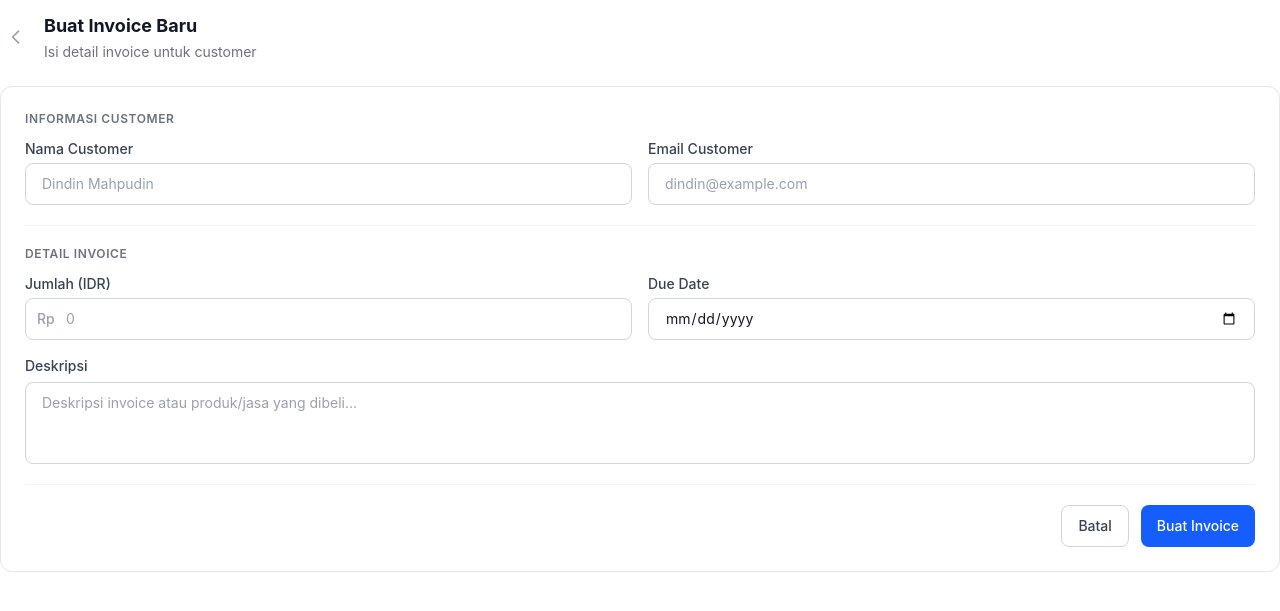
Scenario: CreateInvoicePage › shows error when amount is 0
Type "Andi Santoso" into the field labelled "Nama Customer". click: [328, 184]
box: x1=25 y1=163 x2=632 y2=205
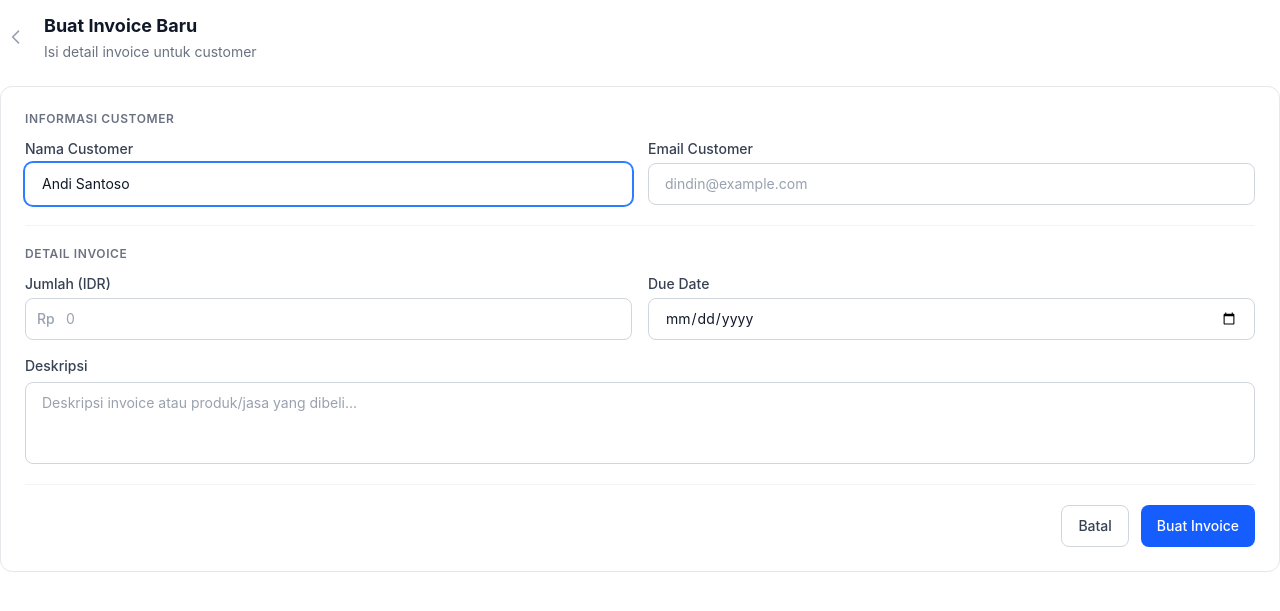
Type "andi@test.com" into the field labelled "Email Customer". click: [952, 184]
box: x1=648 y1=163 x2=1255 y2=205
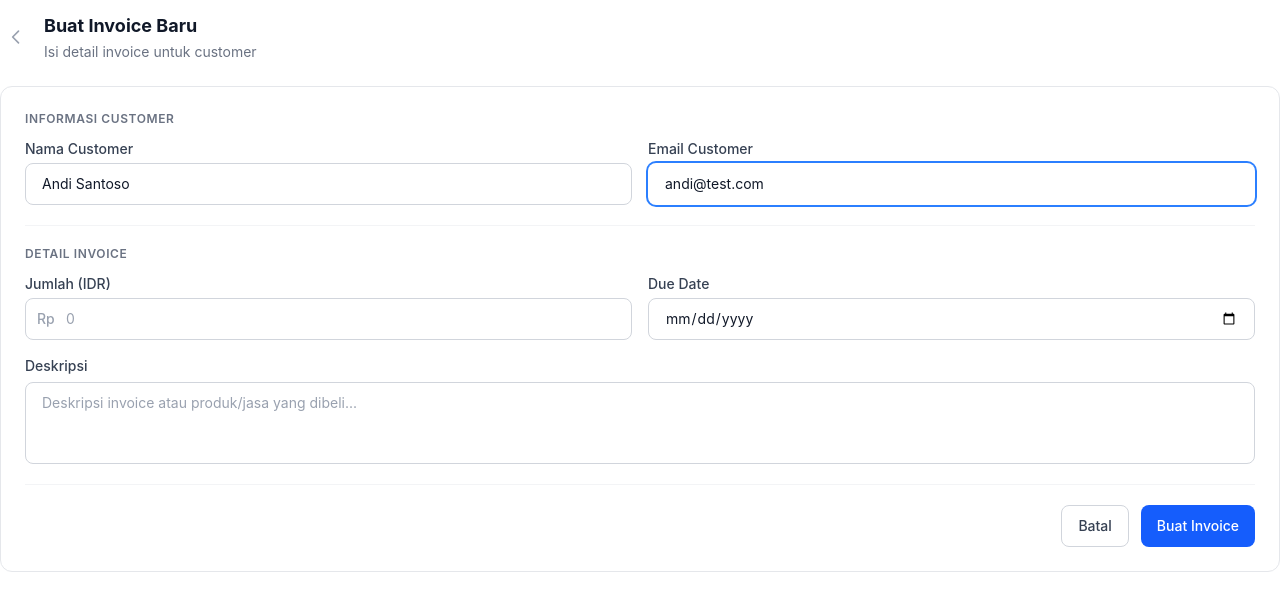
Type "Test" into the text box labelled "Deskripsi". click: [640, 423]
box: x1=25 y1=382 x2=1255 y2=464
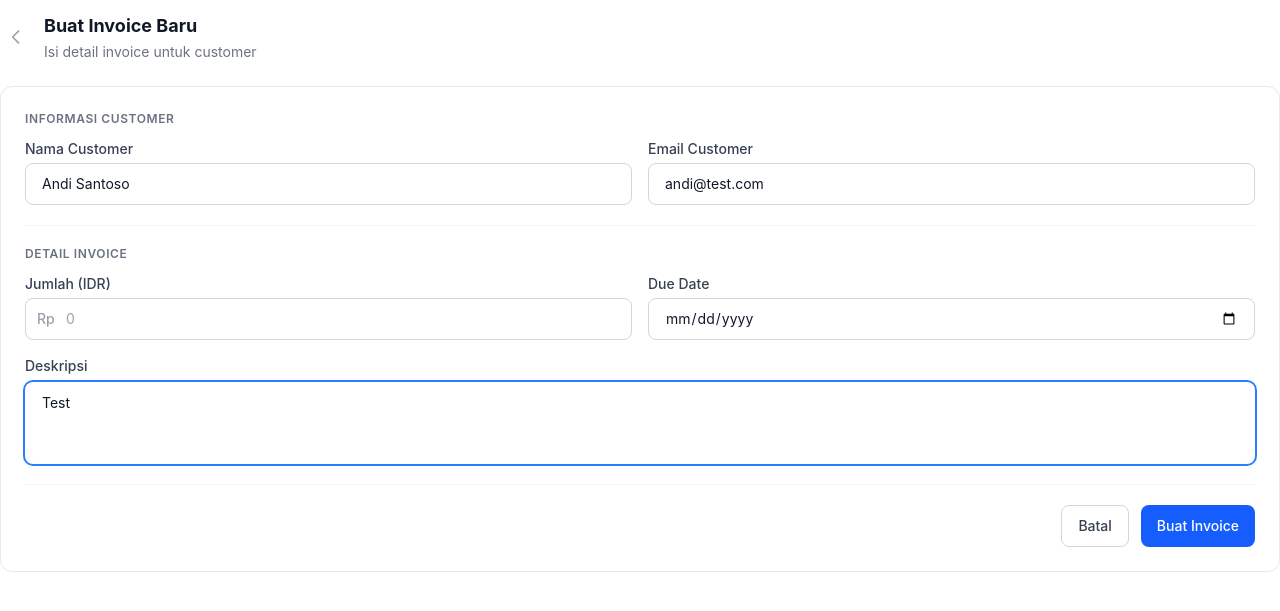
Click the button "Buat Invoice". click: [1198, 526]
box: x1=1141 y1=505 x2=1255 y2=547
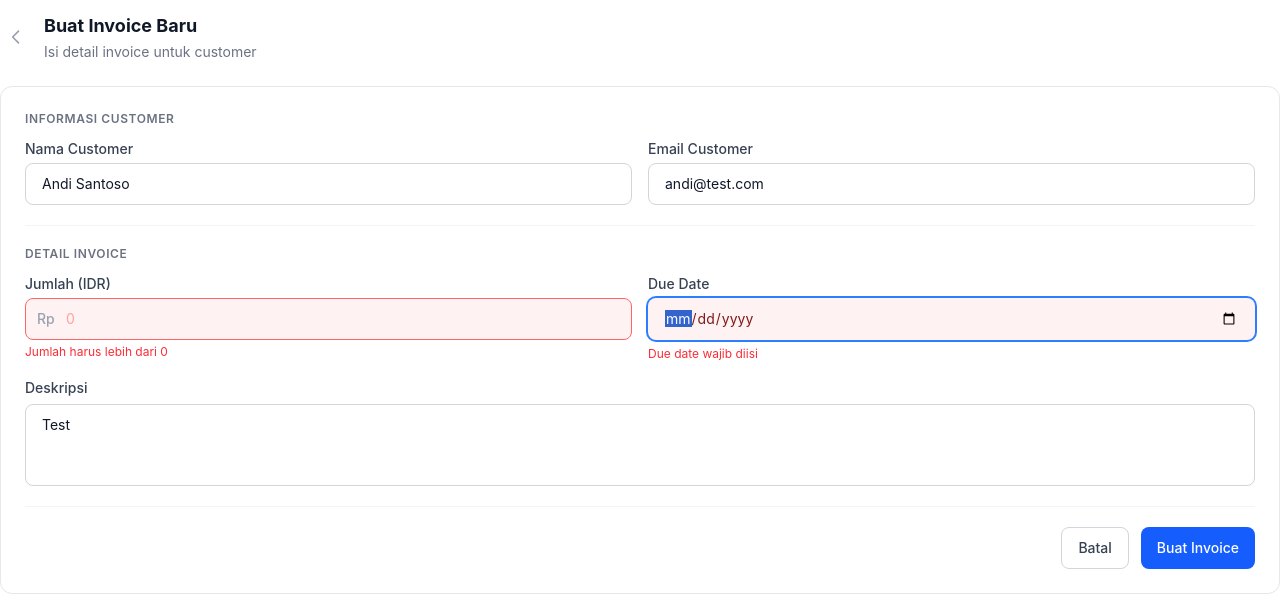
Expected: the text "Jumlah harus lebih dari 0" is shown, x1=25 y1=344 x2=168 y2=359
